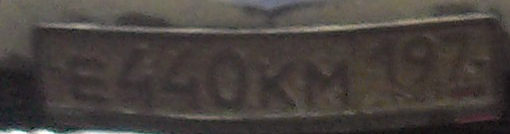character: (157, 42, 206, 116), (439, 23, 478, 99), (207, 44, 250, 112), (114, 42, 156, 111), (401, 29, 441, 101), (302, 59, 352, 109), (255, 59, 300, 114), (67, 51, 113, 103), (369, 34, 400, 101)
